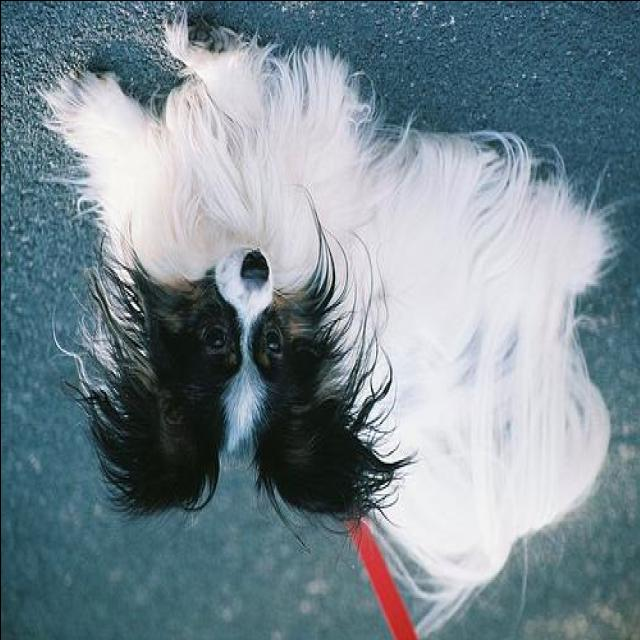papillon: (42, 13, 616, 636)
